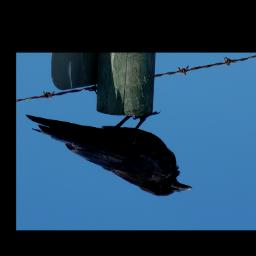Crow: (24, 110, 195, 197)
